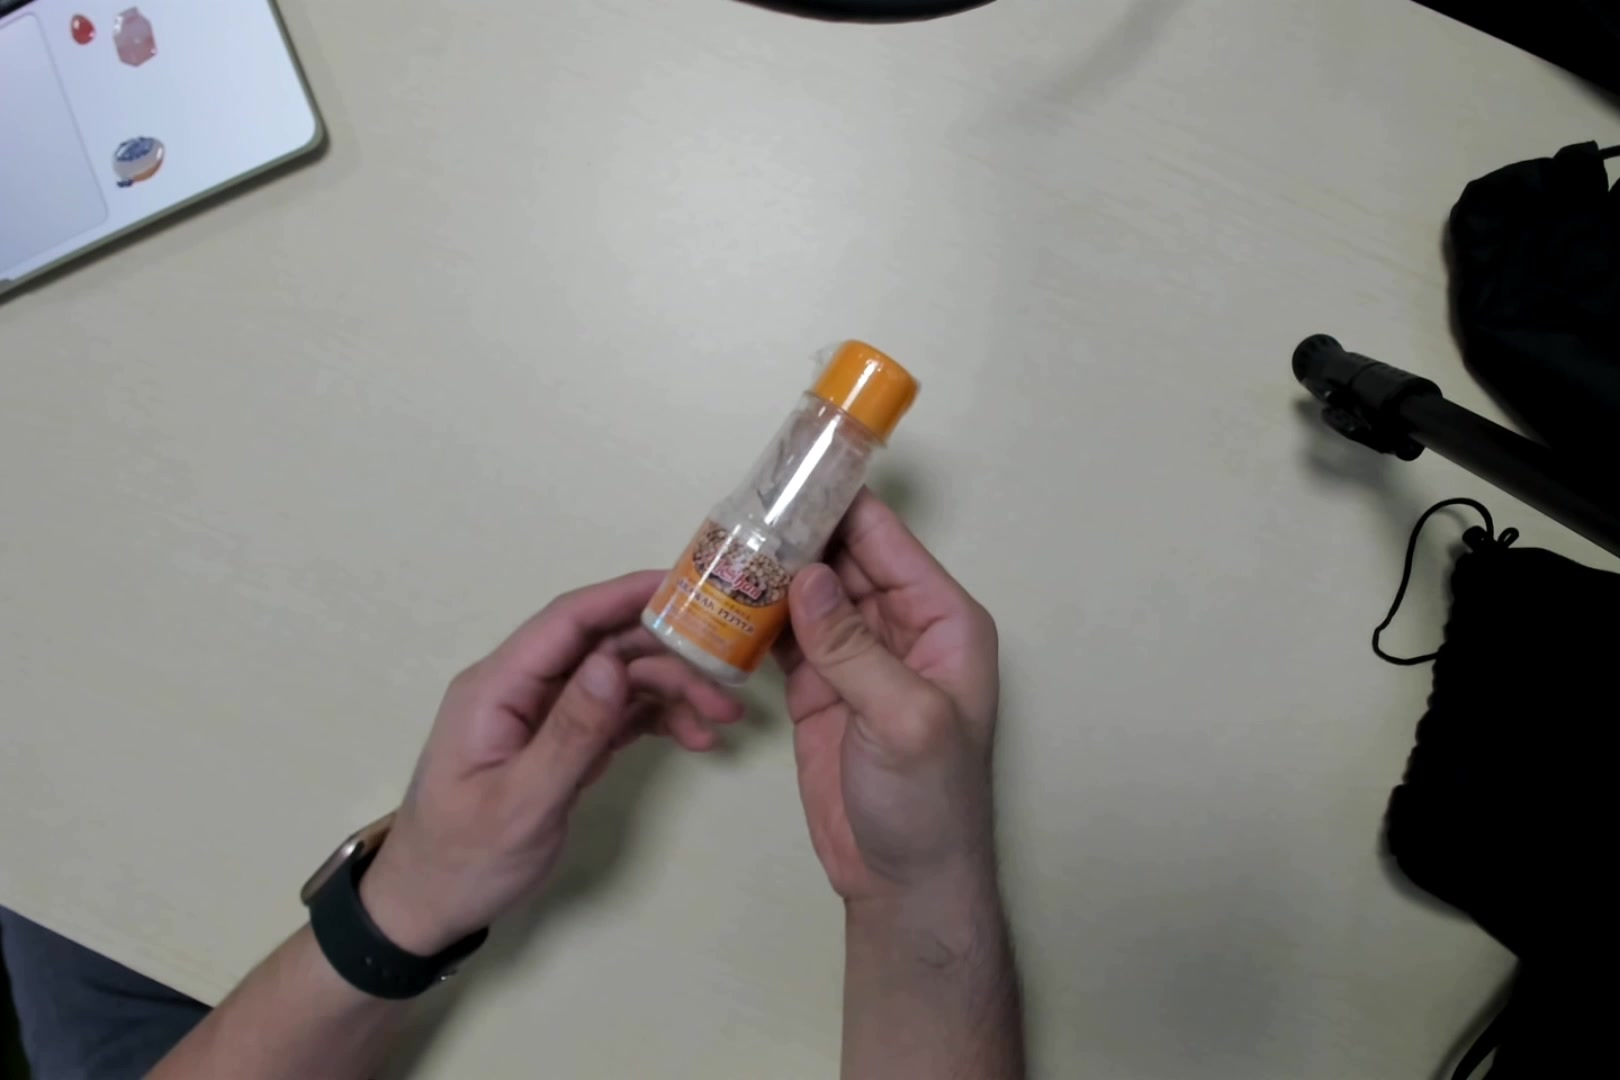HeabsSpicesPepper_0-99g_NonHalal_NonHealthy: (644, 330, 922, 681)
